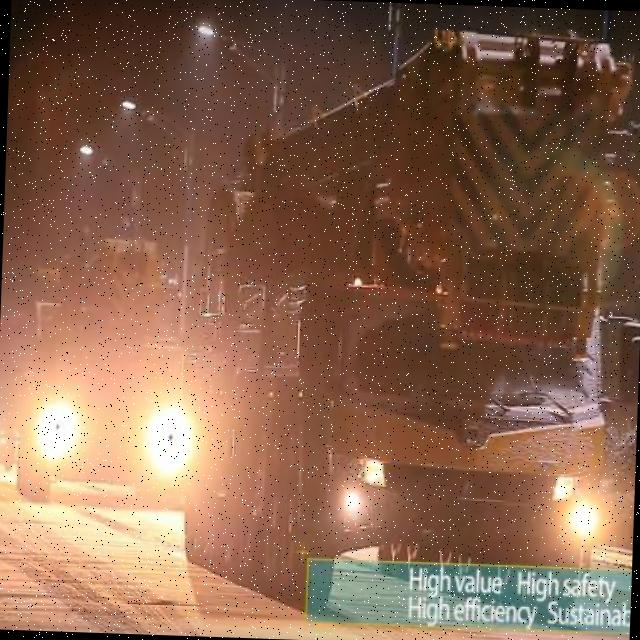Mobile Crane: (178, 20, 634, 613), (12, 234, 188, 503)
